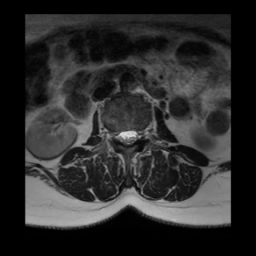CCS_normal: (124, 121, 131, 153)
LFS_normal: (139, 122, 146, 144)
LLS_normal: (131, 122, 139, 148)
RFS_normal: (109, 123, 117, 146)
RLS_normal: (117, 123, 124, 147)
